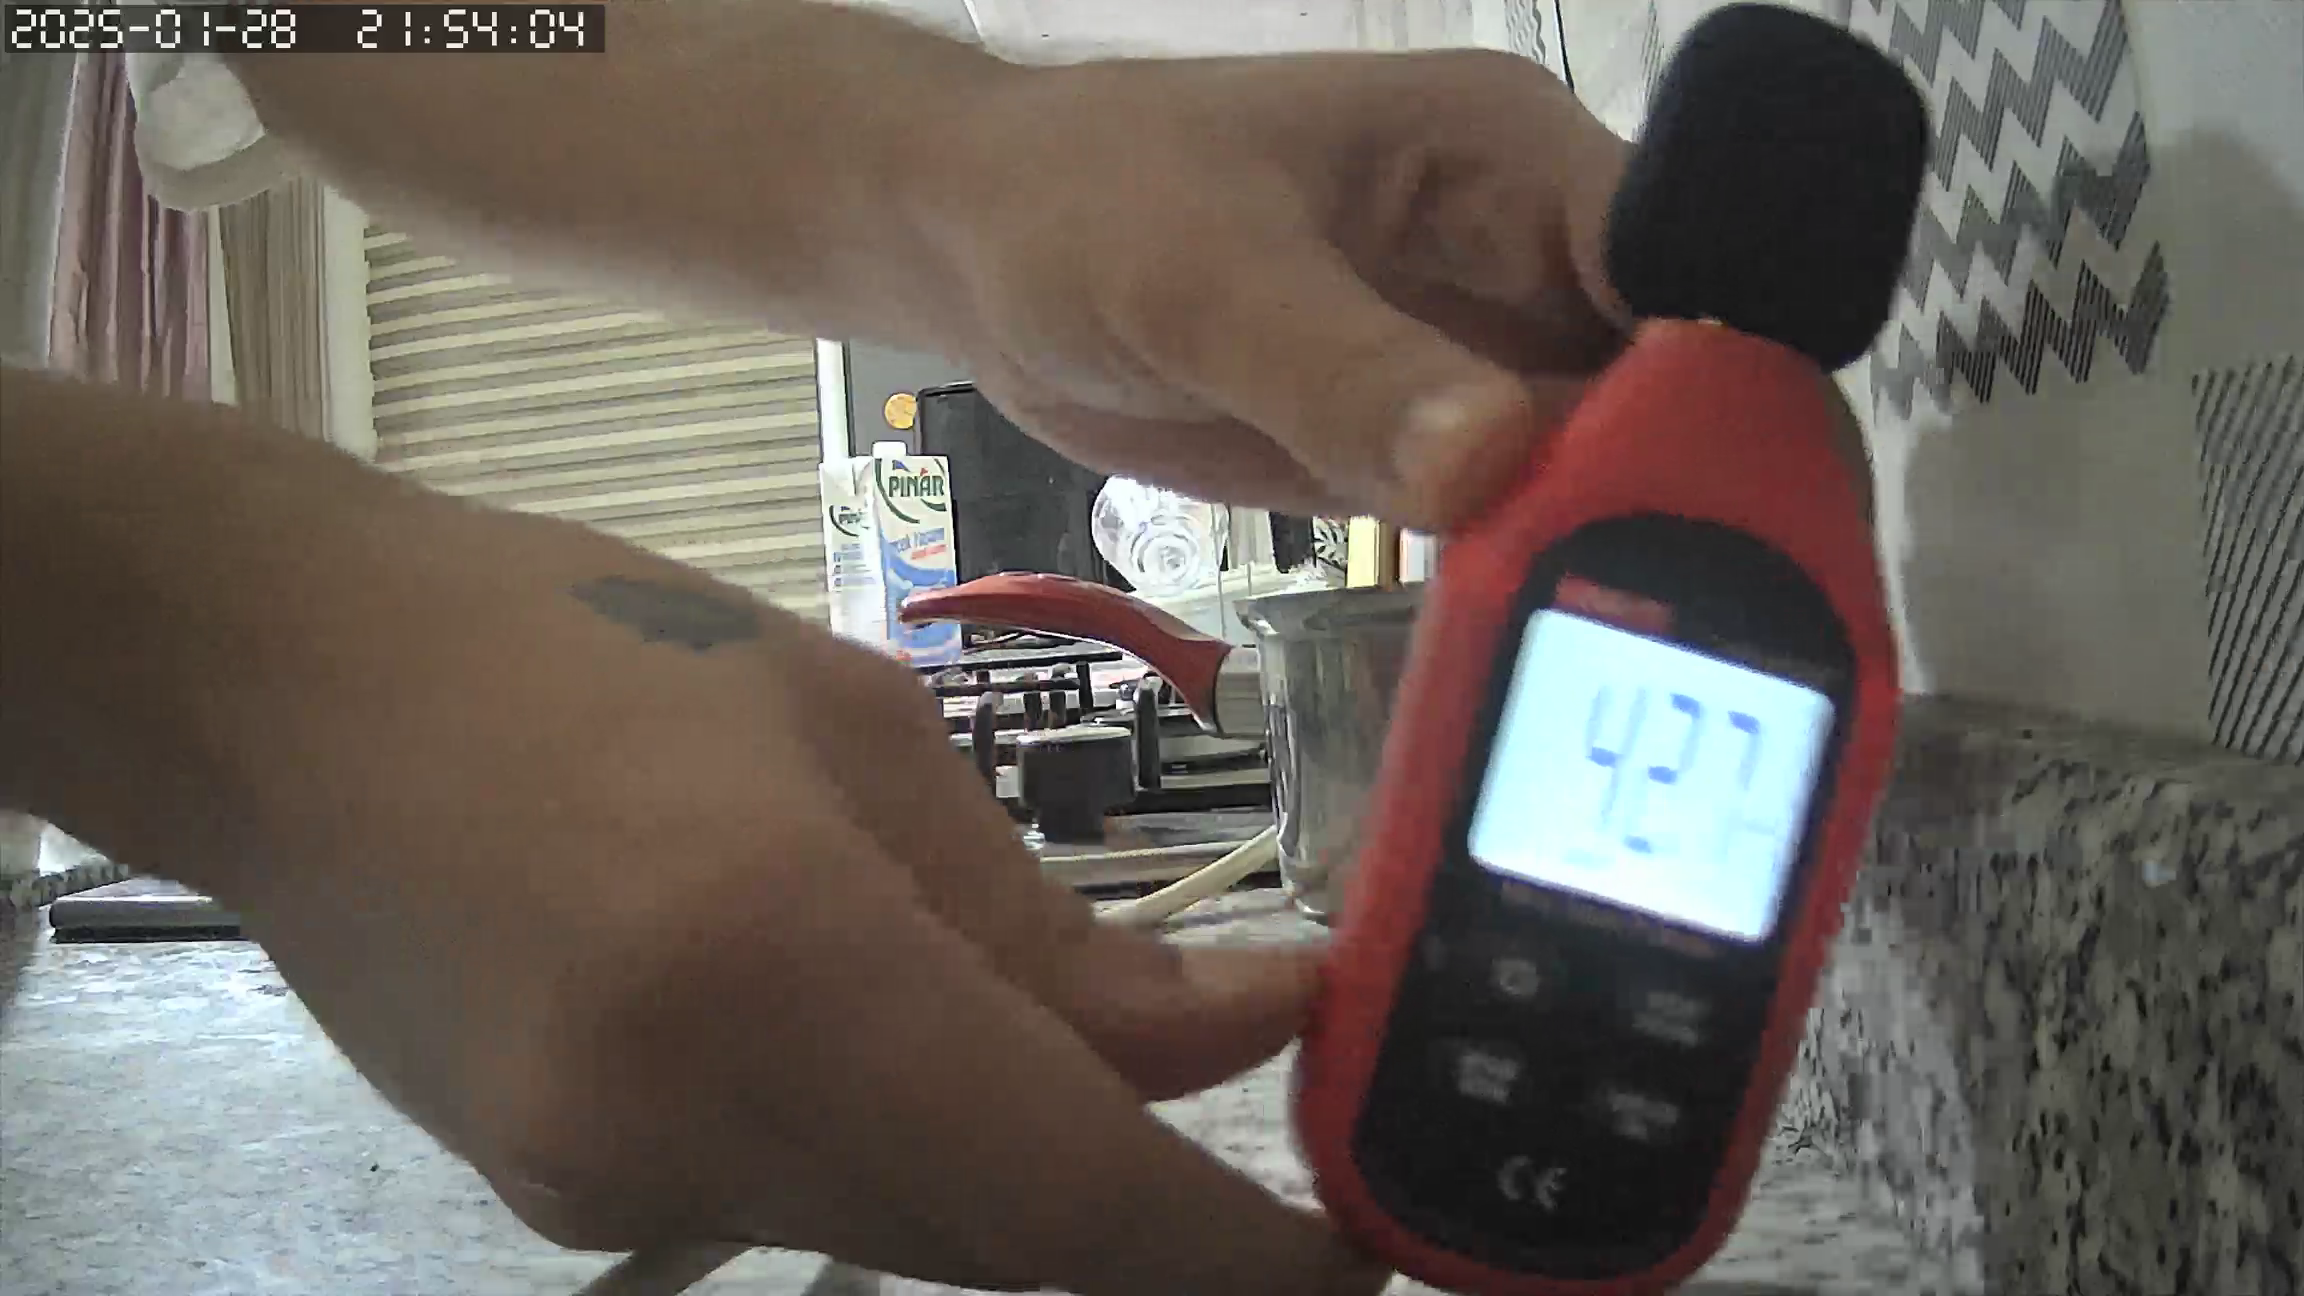screen: (1468, 604, 1832, 942)
